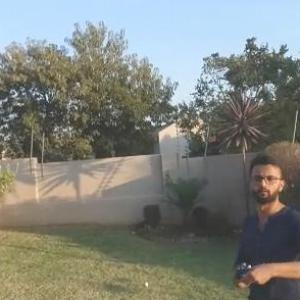follow: (229, 148, 299, 299)
